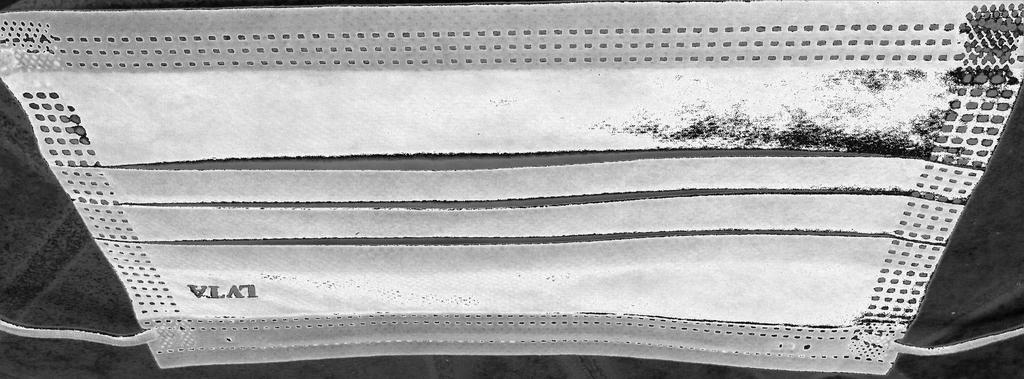High GSM: (42, 56, 964, 324)
